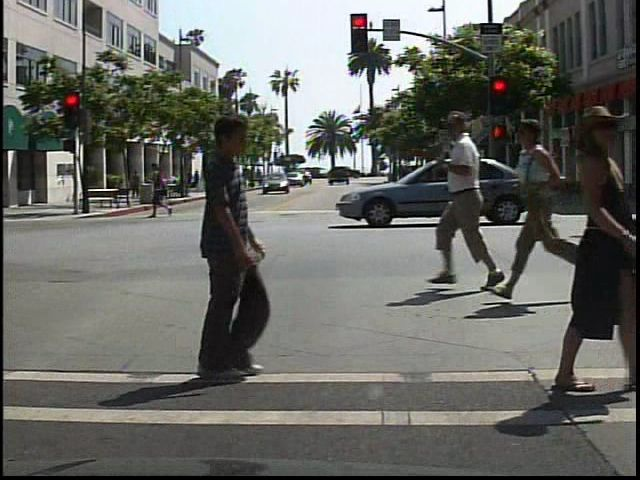person: (165, 109, 276, 384), (537, 100, 634, 396), (510, 115, 597, 303), (437, 112, 516, 297), (146, 158, 180, 220), (131, 167, 142, 199)
